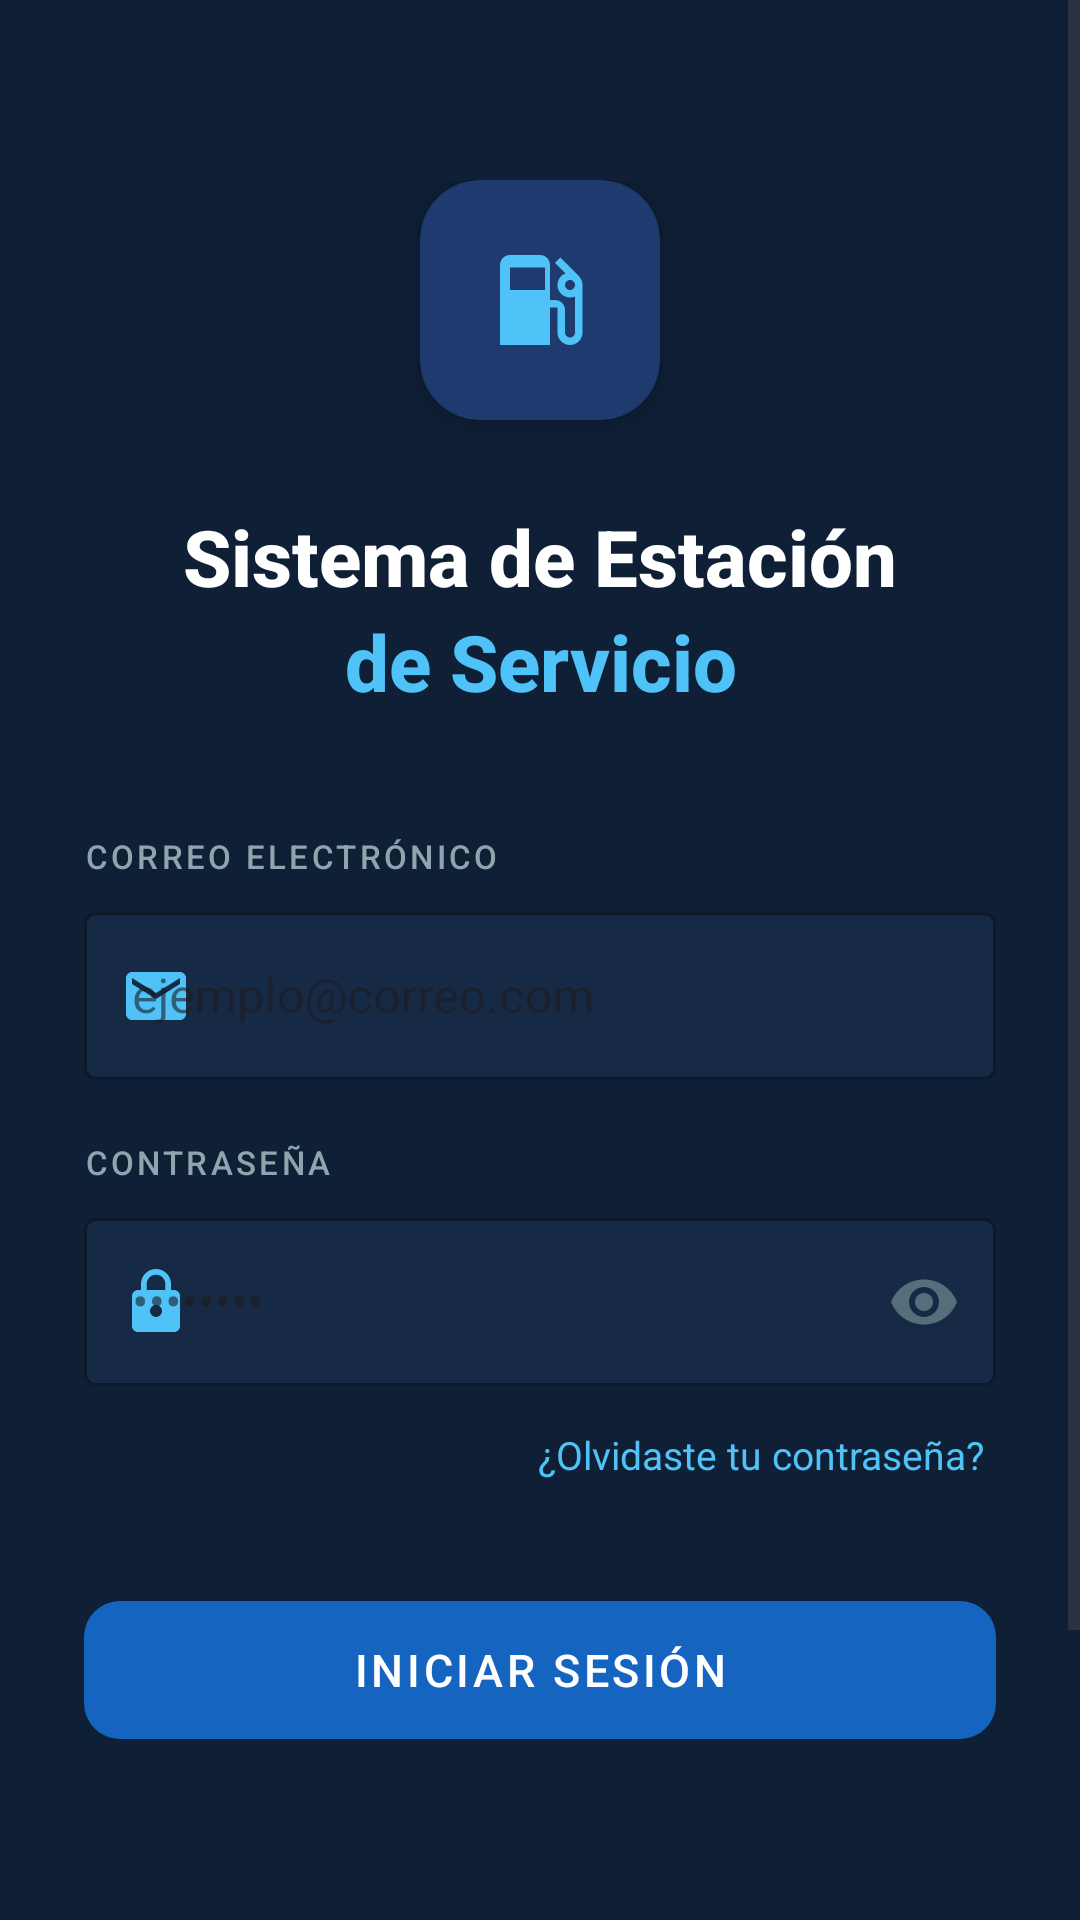

Named icons in this screenshot (1080px×1920px) and their centers, point (x, y):
local gas station: point (541, 300)
